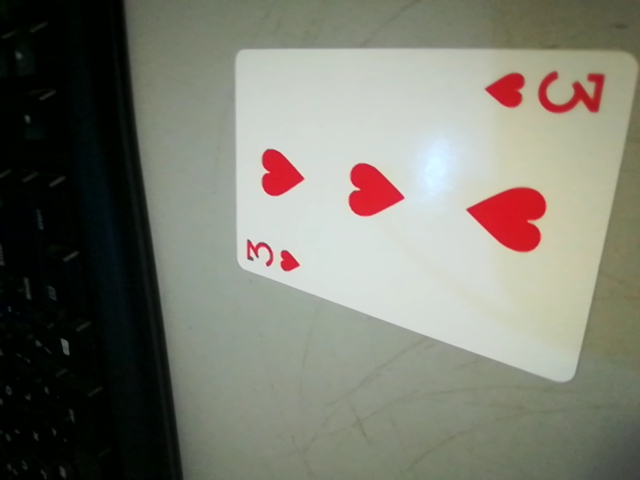hx 3: (490, 61, 620, 121)
